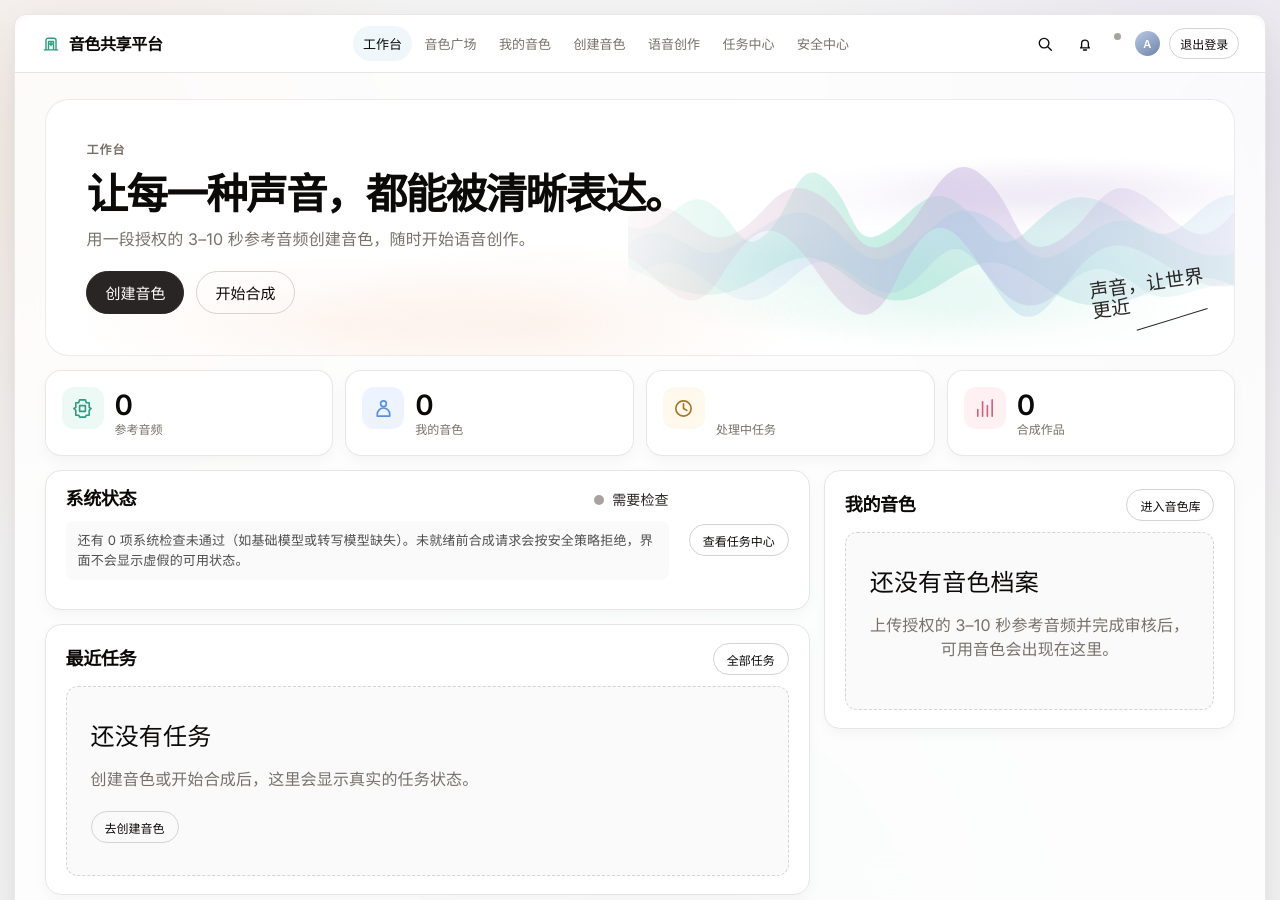
AppShell 顶部导航与状态浮层 › closes the readiness dialog when navigating
Step 1. Click the button with aria-label "查看系统状态" → (1117, 44), box [1109,30,1125,58]
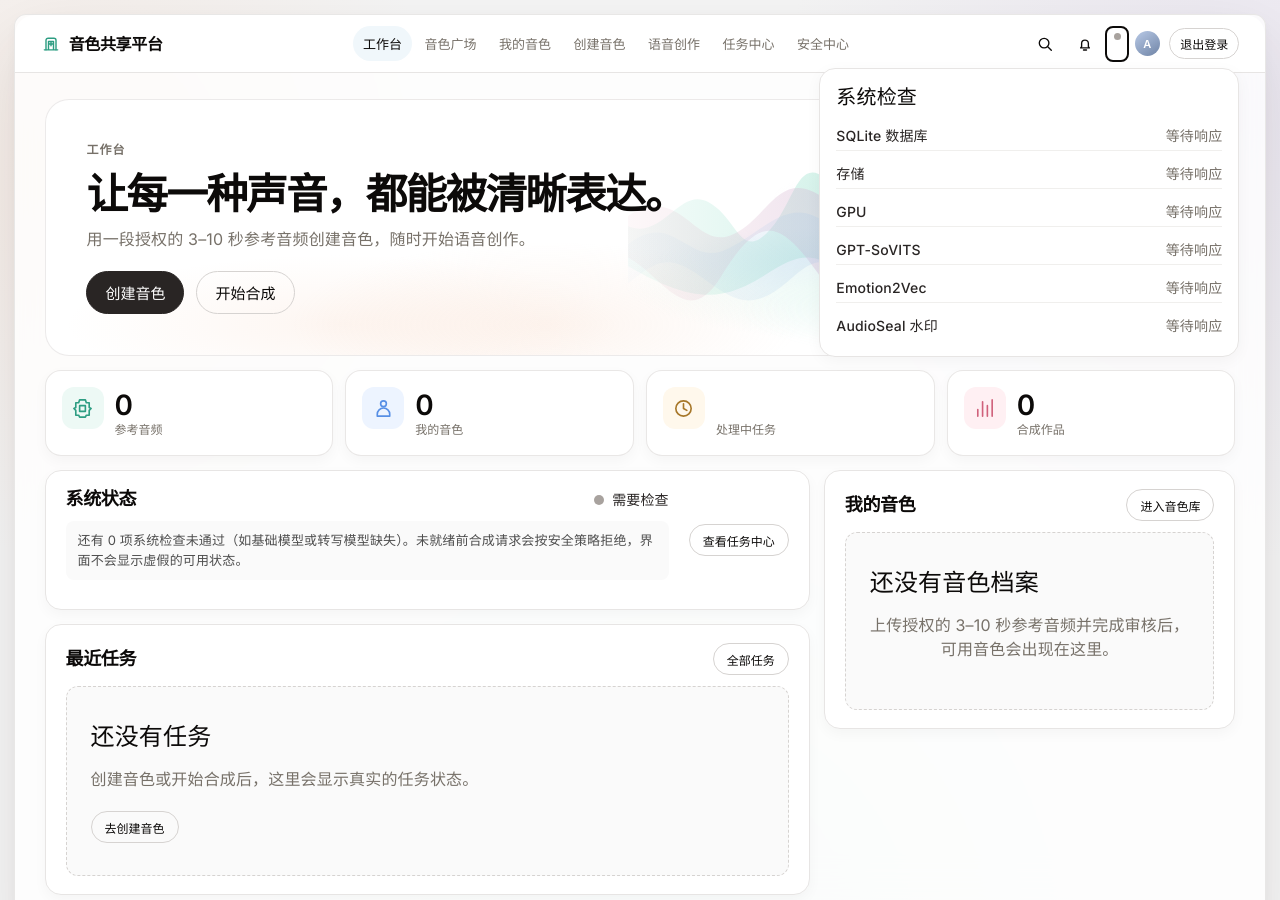
expect the dialog "系统检查" is shown: met, box [819,68,1239,357]
Step 2. Click the button "任务中心" → (748, 44), box [712,26,785,61]
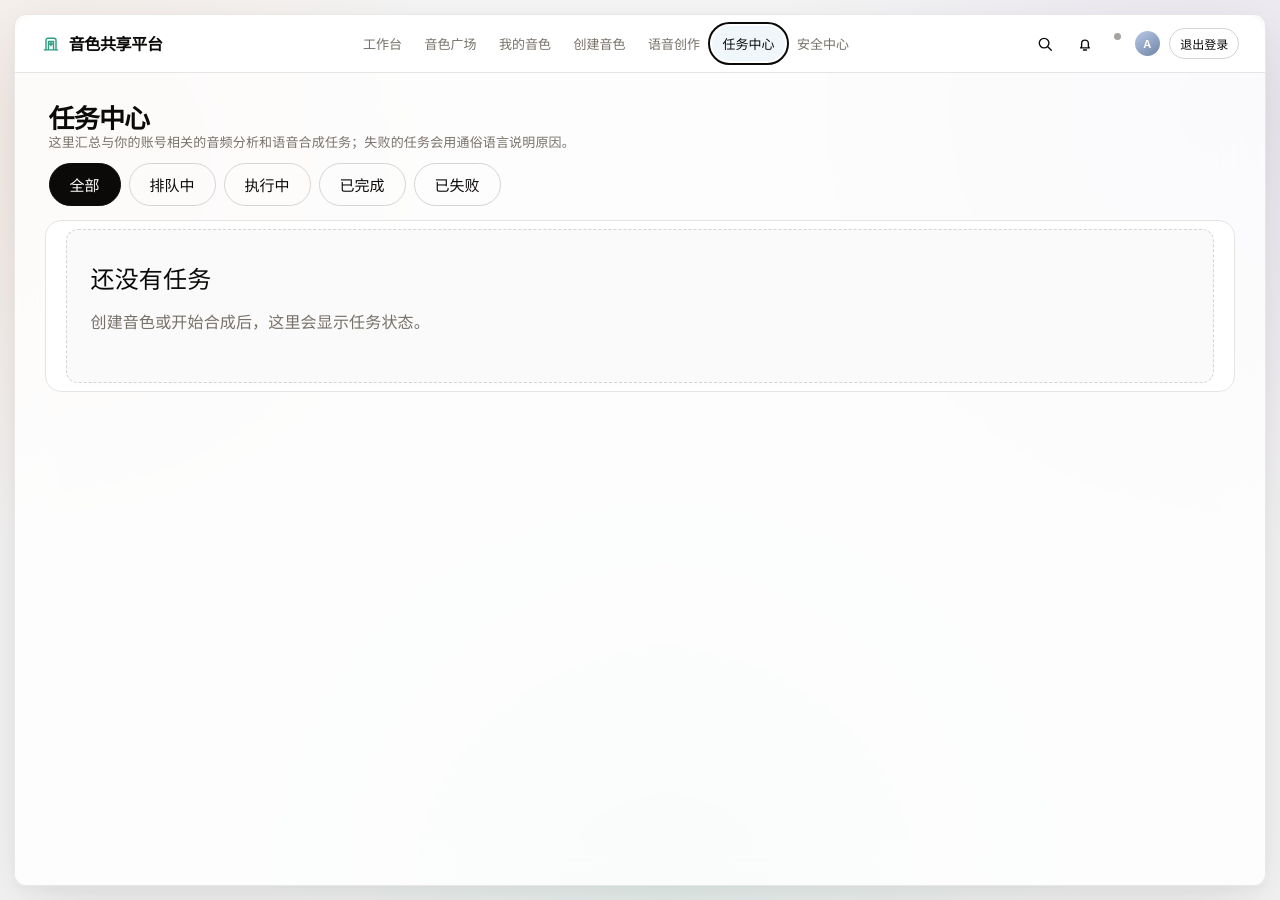
expect the heading "系统检查" is gone: met
